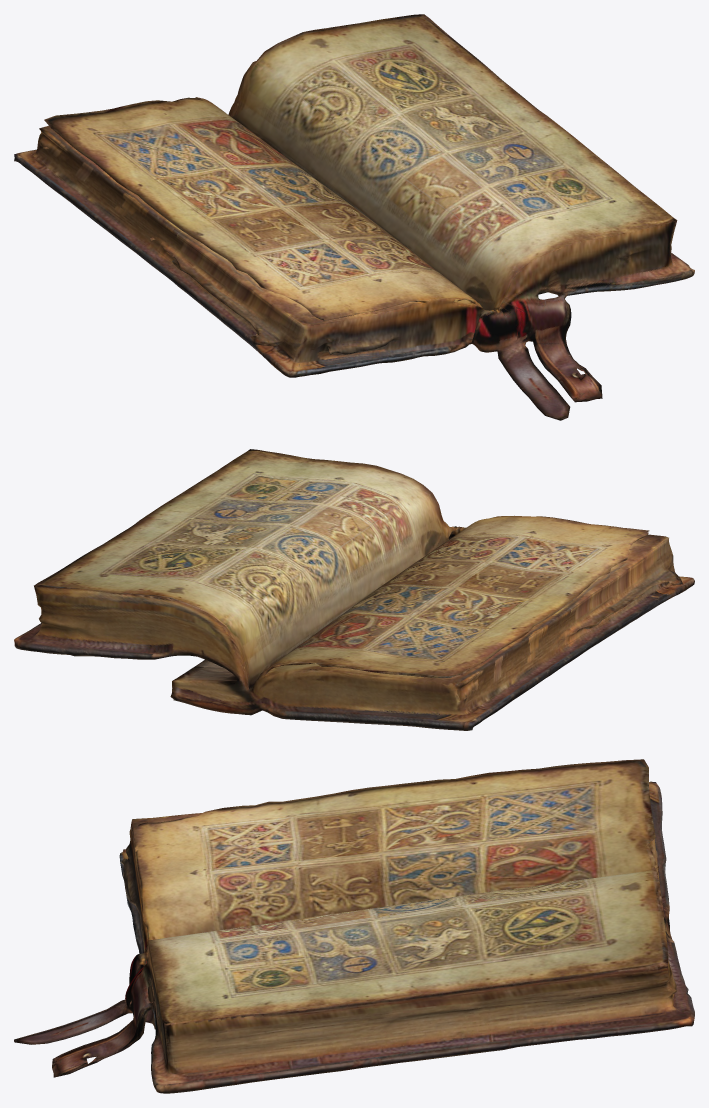
The model's file is ultra_detailed_old_me_0613145819_texture.fbx.
The picture shows the model from 3 angles, top to bottom: view 1: azimuth 30°, elevation 25°; view 2: azimuth 150°, elevation 25°; view 3: azimuth 270°, elevation 25°; orthographic projection. The views are drawn at different scales.
Visible parts, largest first — view 1: Mesh_0; view 2: Mesh_0; view 3: Mesh_0.
Part boxes in pixels (x1,y1,x2,y2): Mesh_0: (14,14,694,420); Mesh_0: (14,449,694,730); Mesh_0: (14,759,694,1093).
Size of the model in its own units: 167 by 59.54 by 199.
Materials: 1 (1 with a texture image).
